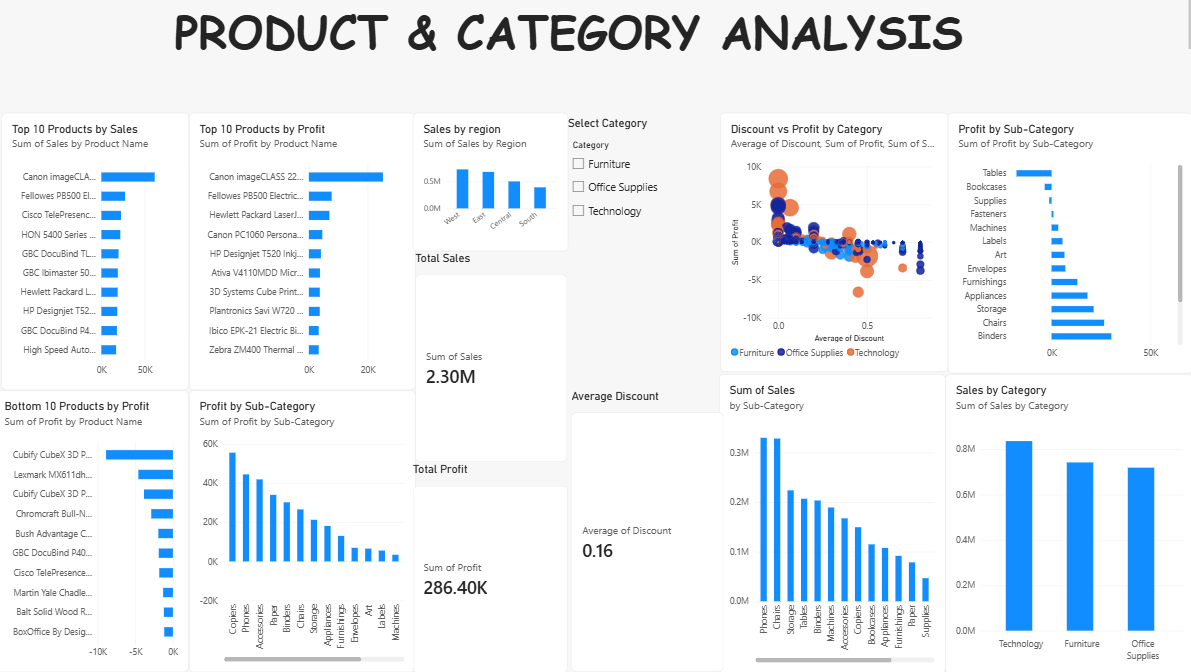

This screenshot's page, from the dashboard's own definition file:
{"tool":"powerbi","page":{"name":"Product & Category Analysis","canvas":[1920,1080],"ordinal":1},"visuals":[{"type":"textbox","box":[7.8,0,1911.5,89.5],"z":0},{"type":"clusteredBarChart","title":"Top 10 Products by Sales","fields":{"Category":["cleaned_superstore.Product Name"],"Y":["Sum(cleaned_superstore.Sales)"]},"box":[11.7,183,299.8,443.8],"z":1000},{"type":"clusteredBarChart","title":"Top 10 Products by Profit","fields":{"Category":["cleaned_superstore.Product Name"],"Y":["Sum(cleaned_superstore.Profit)"]},"box":[311.4,183,362.1,443.8],"z":2000},{"type":"clusteredBarChart","title":"Bottom 10 Products by Profit","fields":{"Category":["cleaned_superstore.Product Name"],"Y":["Sum(cleaned_superstore.Profit)"]},"box":[0,626.8,311.4,451.6],"z":3000},{"type":"clusteredColumnChart","title":"Profit by Sub-Category","fields":{"Category":["cleaned_superstore.Sub-Category"],"Y":["Sum(cleaned_superstore.Profit)"]},"box":[311.4,626.8,362.1,451.6],"z":4000},{"type":"clusteredColumnChart","fields":{"Y":["Sum(cleaned_superstore.Sales)"],"Category":["cleaned_superstore.Sub-Category"]},"box":[1160.1,599.5,362.1,478.8],"z":5000},{"type":"scatterChart","title":"Discount vs Profit by Category","fields":{"Y":["Sum(cleaned_superstore.Profit)"],"X":["cleaned_superstore.Discount"],"Series":["cleaned_superstore.Category"],"Size":["Sum(cleaned_superstore.Sales)"],"Category":["cleaned_superstore.Order ID"]},"box":[1161.3,182.5,365,414.8],"z":6000},{"type":"clusteredBarChart","title":"Profit by Sub-Category","fields":{"Category":["cleaned_superstore.Sub-Category"],"Y":["Sum(cleaned_superstore.Profit)"]},"box":[1526.1,183,393.2,416.6],"z":7000},{"type":"clusteredColumnChart","title":"Sales by Category","fields":{"Category":["cleaned_superstore.Category"],"Y":["Sum(cleaned_superstore.Sales)"]},"box":[1522.2,599.5,397.1,478.8],"z":8000},{"type":"clusteredColumnChart","title":"Sales by region","fields":{"Category":["cleaned_superstore.Region"],"Y":["Sum(cleaned_superstore.Sales)"]},"box":[669.1,182.5,248.9,221.2],"z":9000},{"type":"slicer","title":"Select Category","fields":{"Values":["cleaned_superstore.Category"]},"box":[918,188,248.9,353.9],"z":10000},{"type":"cardVisual","title":"Total Sales","fields":{"Data":["Sum(cleaned_superstore.Sales)"]},"box":[674.7,403.7,243.3,337.3],"z":11000},{"type":"cardVisual","title":"Total Profit","fields":{"Data":["Sum(cleaned_superstore.Profit)"]},"box":[669.1,741,248.9,337.3],"z":12000},{"type":"cardVisual","title":"Average Discount","fields":{"Data":["Avg(cleaned_superstore.Discount)"]},"box":[923.5,624.9,243.3,453.5],"z":13000}]}

Visuals, with their boxes in screenshot pixels (x1, y1, x2, y2), scaled from the page's 1920x1080 canvas onto the 1191x672 screenshot:
textbox: 5/0/1190/56
"Top 10 Products by Sales" clusteredBarChart: 7/114/193/390
"Top 10 Products by Profit" clusteredBarChart: 193/114/418/390
"Bottom 10 Products by Profit" clusteredBarChart: 0/390/193/671
"Profit by Sub-Category" clusteredColumnChart: 193/390/418/671
clusteredColumnChart - Sum(cleaned_superstore.Sales) x cleaned_superstore.Sub-Category: 720/373/944/671
"Discount vs Profit by Category" scatterChart: 720/114/947/372
"Profit by Sub-Category" clusteredBarChart: 947/114/1190/373
"Sales by Category" clusteredColumnChart: 944/373/1190/671
"Sales by region" clusteredColumnChart: 415/114/569/251
"Select Category" slicer: 569/117/724/337
"Total Sales" cardVisual: 419/251/569/461
"Total Profit" cardVisual: 415/461/569/671
"Average Discount" cardVisual: 573/389/724/671
